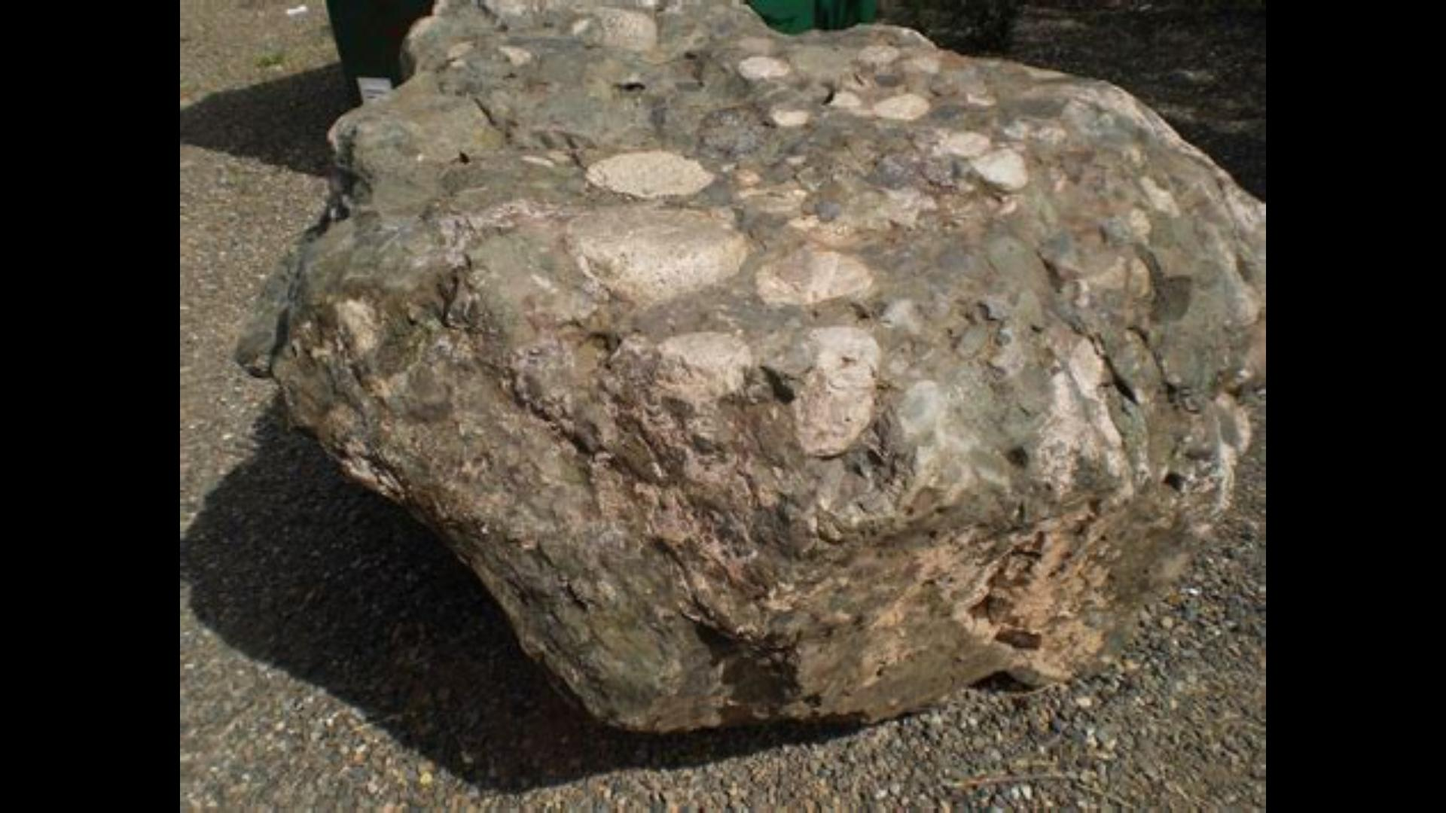rock: (274, 5, 1264, 717)
